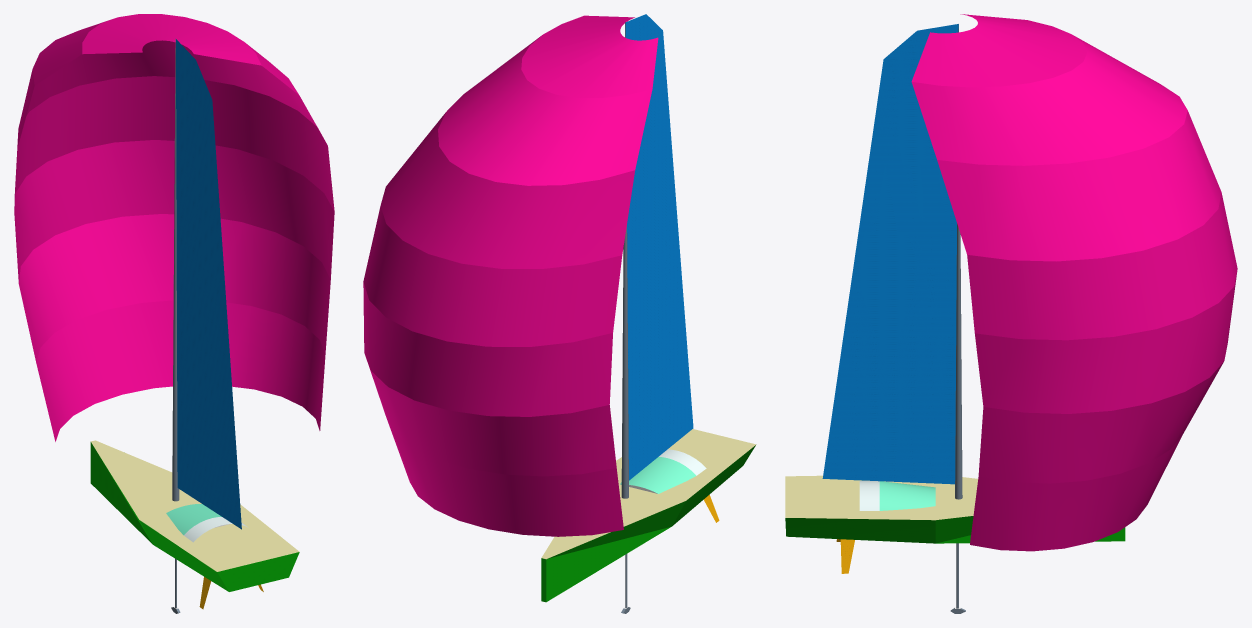
Rendered from RKN_SPI.dae.
3 renders of one model, left to right at view 1: azimuth 30°, elevation 25°; view 2: azimuth 150°, elevation 25°; view 3: azimuth 270°, elevation 25°, orthographic. The views are drawn at different scales.
Visible parts, largest first — view 1: Model; view 2: Model; view 3: Model.
Part boxes in pixels (<box>): Model: <box>14,14,334,613</box>; Model: <box>363,14,756,613</box>; Model: <box>785,14,1237,613</box>.
Bounding box in the file's own units: 162565 × 239484 × 344489.
